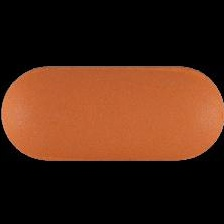35356-907: (0, 0, 224, 224)
